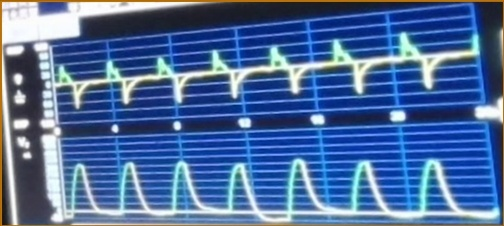Accumulation Flow: (55, 31, 476, 110)
Volume: (68, 157, 486, 223)
